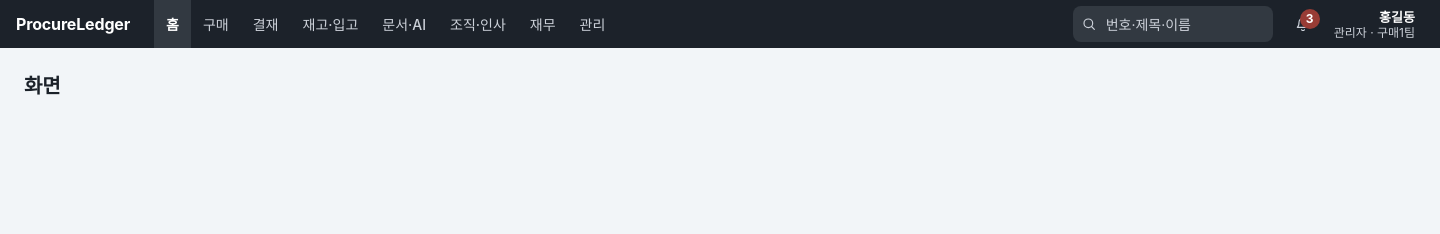
홈 › 사용자 메뉴에서 내 계정·내 정보 열람 요청·개인 토큰·로그아웃, 알림은 종 아이콘으로
Click the button "홍길동 관리자 · 구매1팀" at (1374, 24), box [1325,6,1424,42]
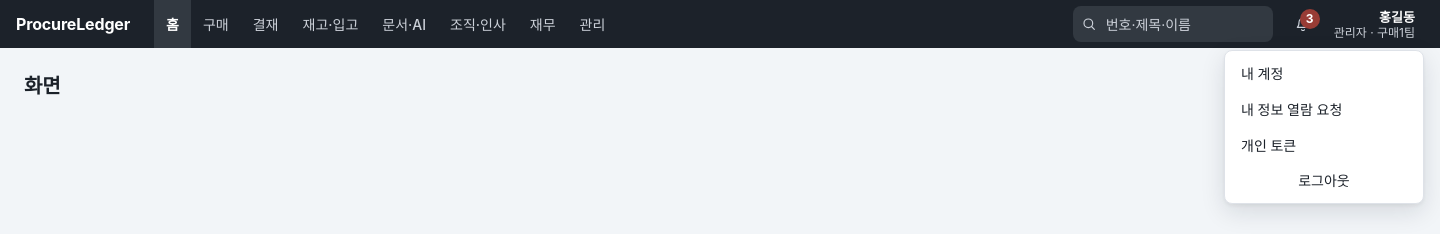
Expected: the text with test id "user-unit" reads "관리자 · 구매1팀", [1334,25,1415,40]
Now the menu items read "내 계정", "내 정보 열람 요청", "개인 토큰", "로그아웃", in this order, box [1241,65,1283,82]; [1241,101,1342,118]; [1241,137,1296,154]; [1229,163,1419,199]
Press Escape
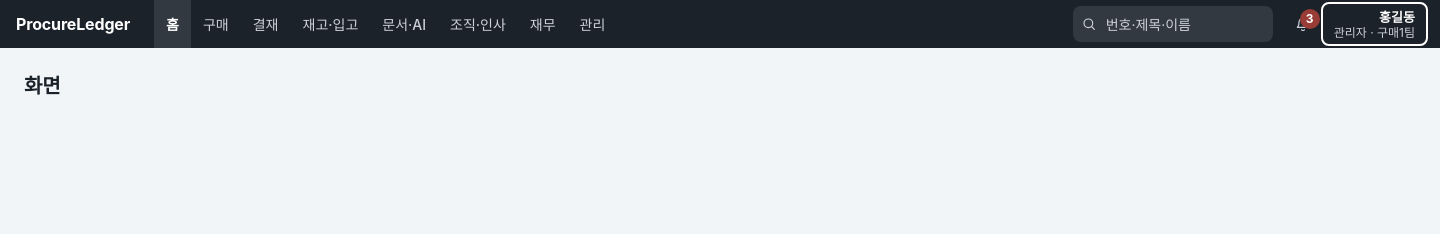
Now the menu is gone
